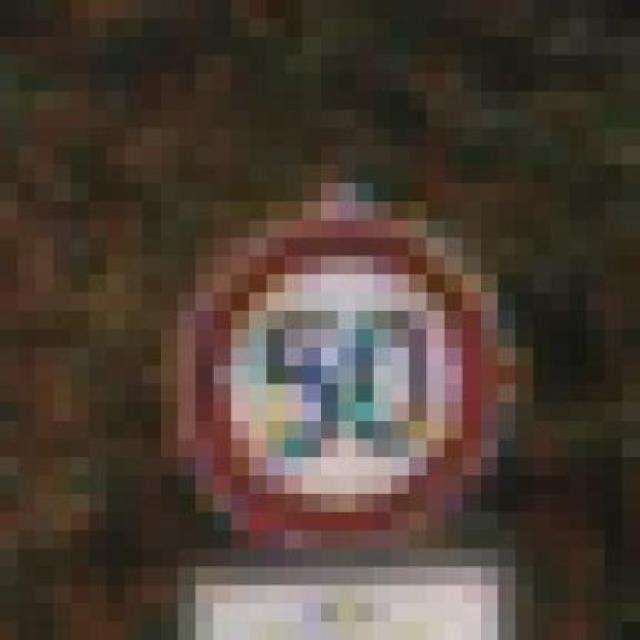forb_speed_over_50: (194, 220, 492, 545)
